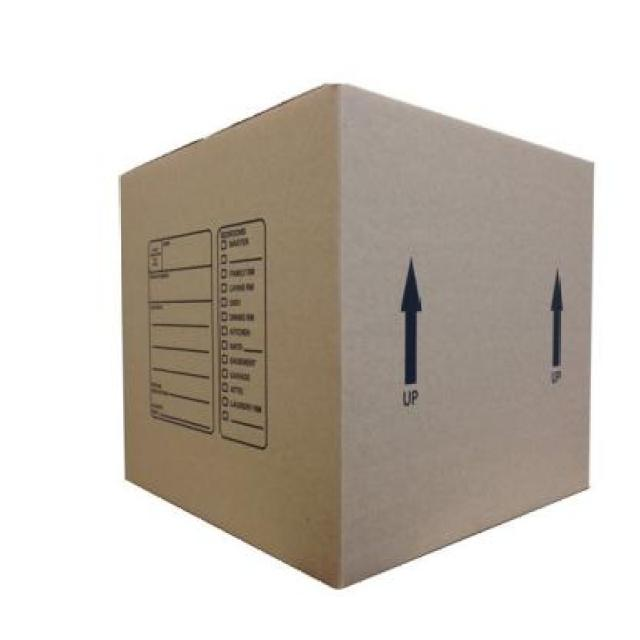box: (99, 79, 602, 604)
